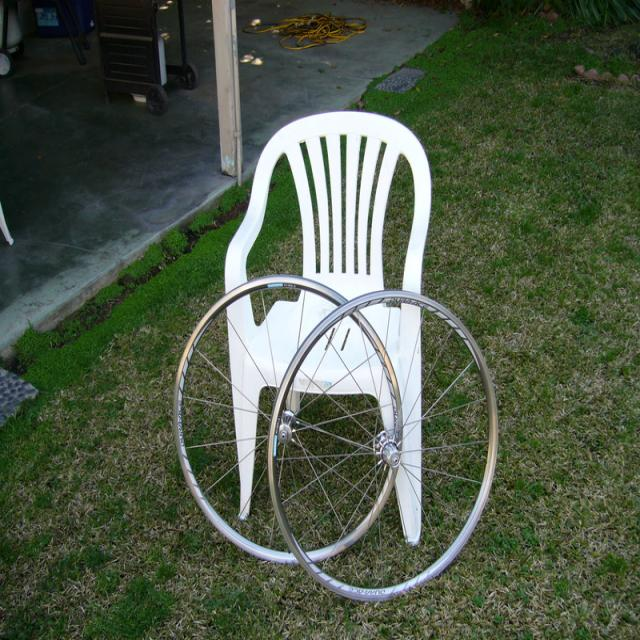chair: (173, 108, 496, 280)
chair - wheel: (174, 112, 497, 599)
wheel: (175, 329, 497, 572)
